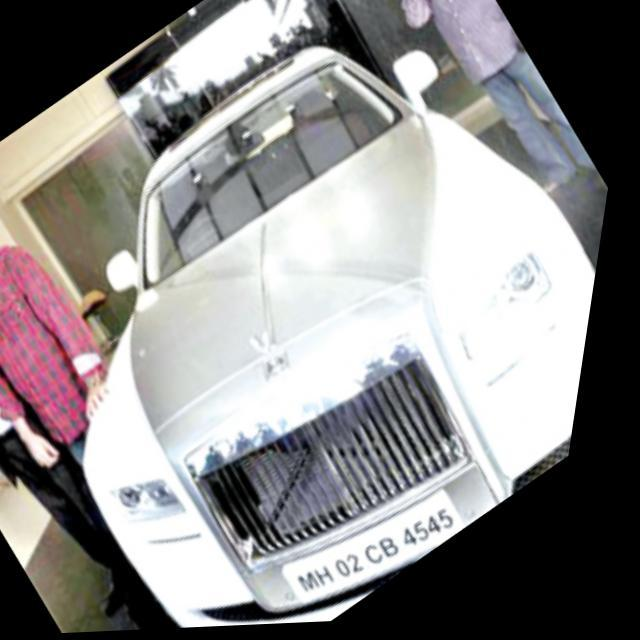license_plate: (298, 472, 487, 627)
